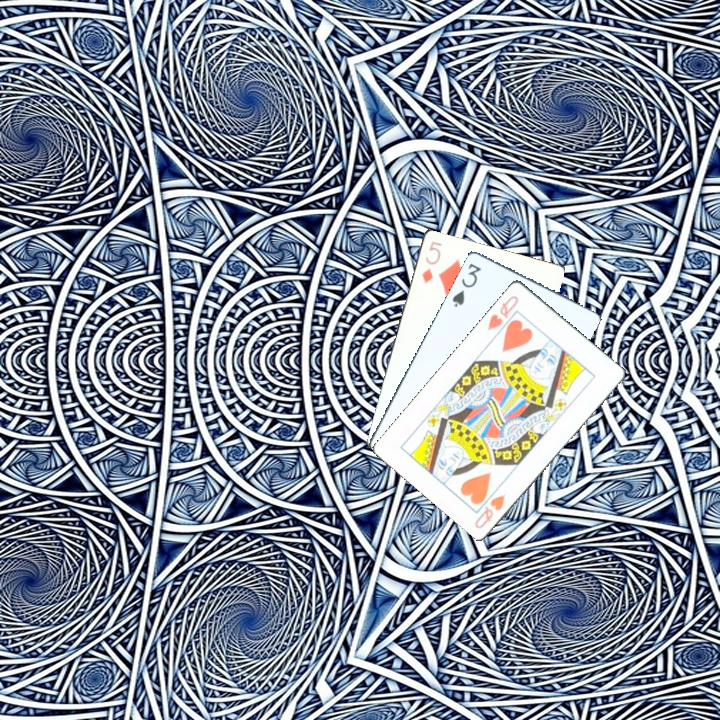3s: (448, 259, 484, 308)
5d: (417, 237, 444, 286)
Qh: (470, 479, 508, 532), (483, 291, 523, 340)
